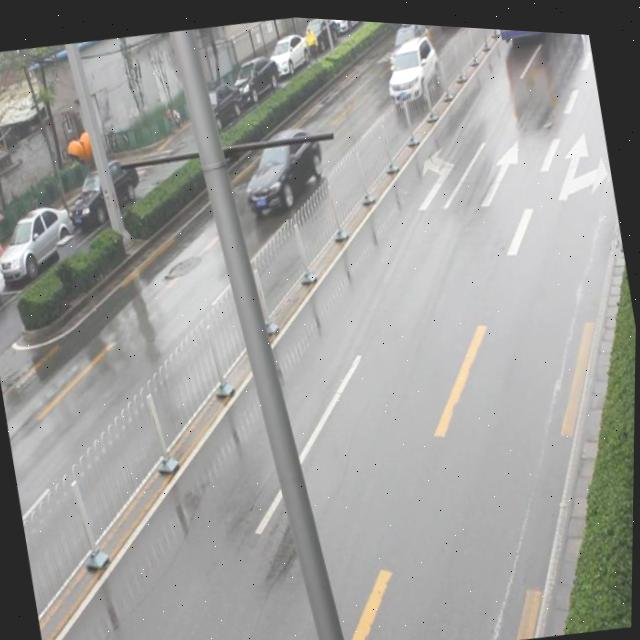car: (233, 112, 329, 218), (373, 25, 447, 109), (379, 18, 434, 62)
